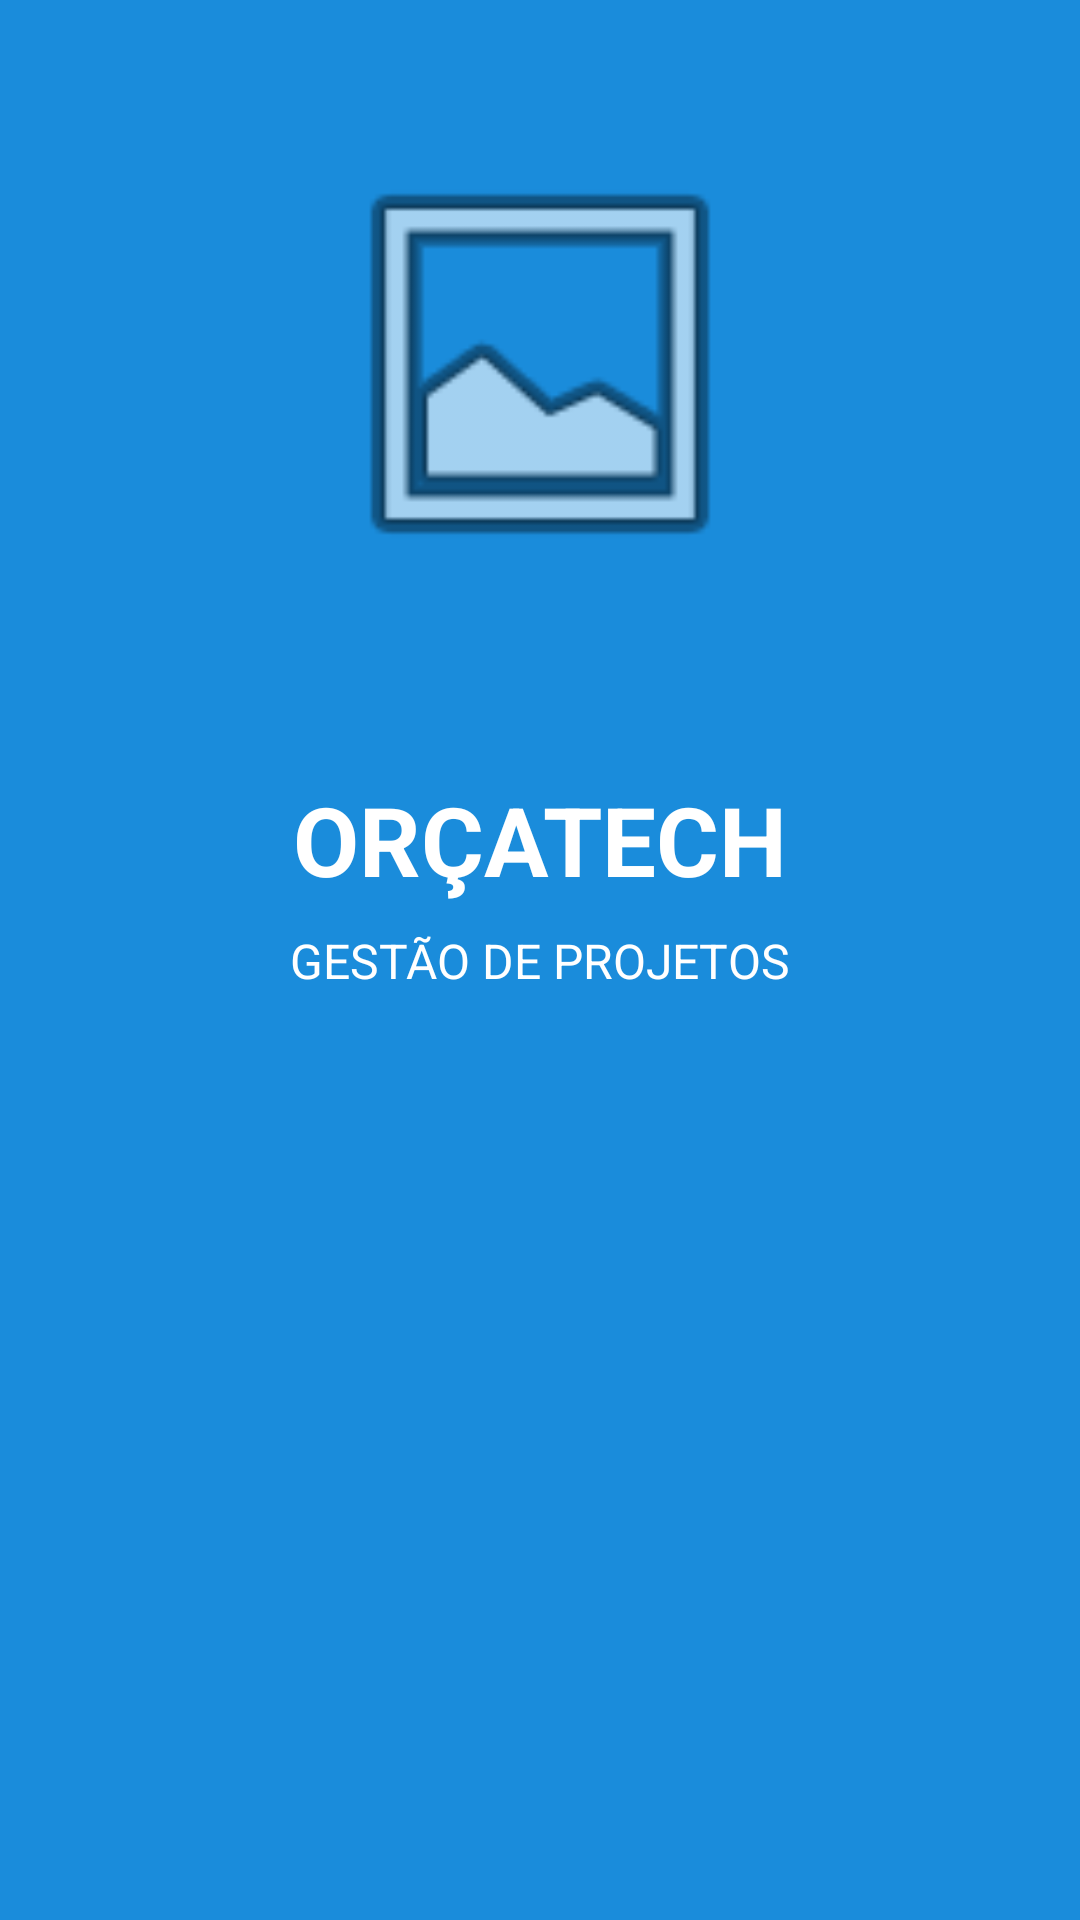

Screen size 1080 × 1920. Icon name, then its center in pixels as (x,y):
gallery: (540,364)
